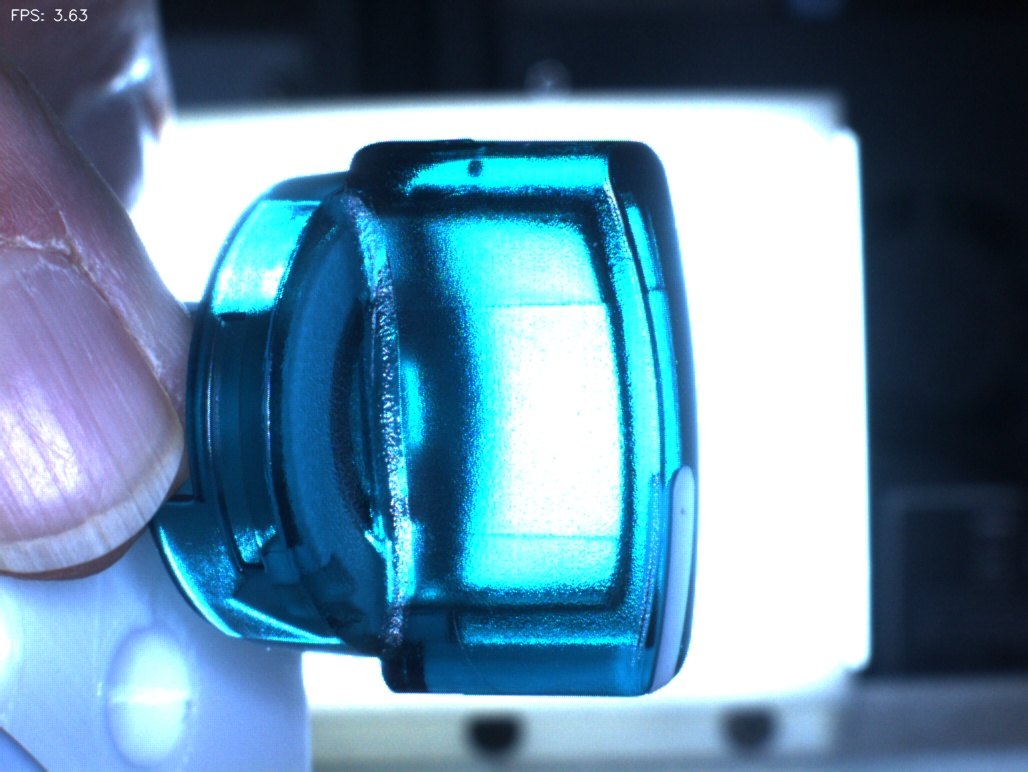Bulle: (438, 108, 524, 224)
